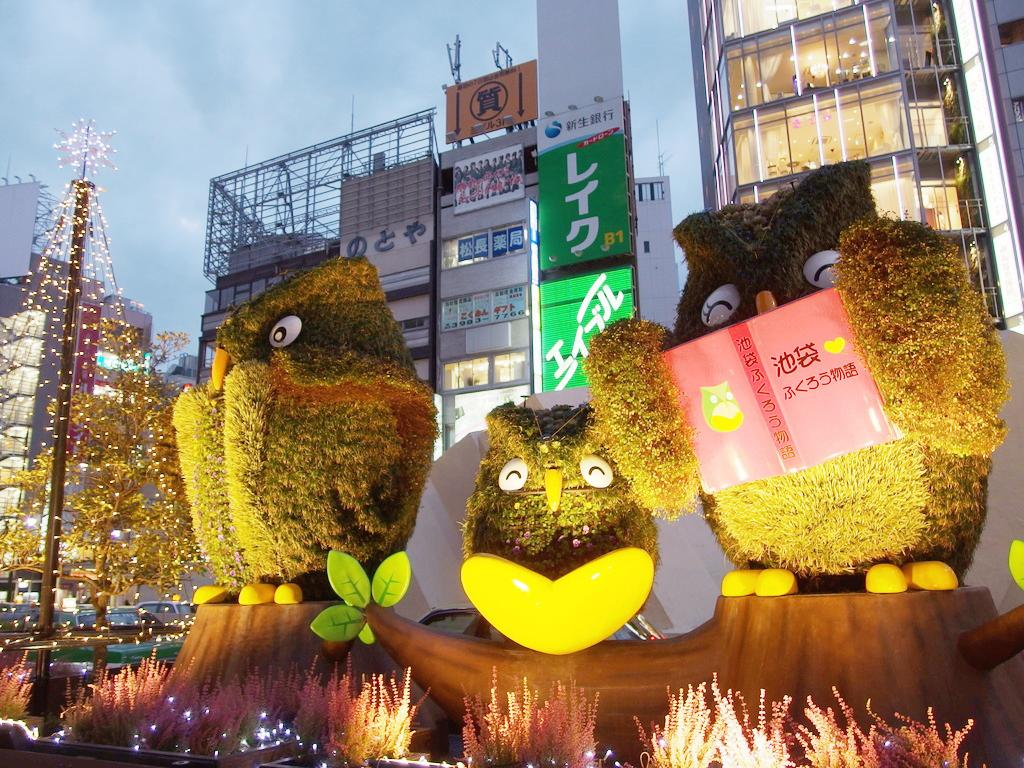Owl: (585, 157, 1024, 594), (180, 258, 449, 611), (456, 397, 664, 659)
